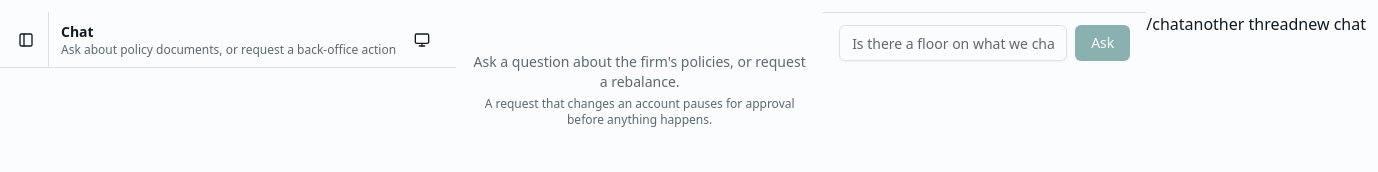
Test case: ChatPage › shows an error event rather than an empty answer
The width and height of the screenshot is (1378, 172).
In the field named "Message": [953, 43] box left=839, top=25, right=1067, bottom=61, type "anything"
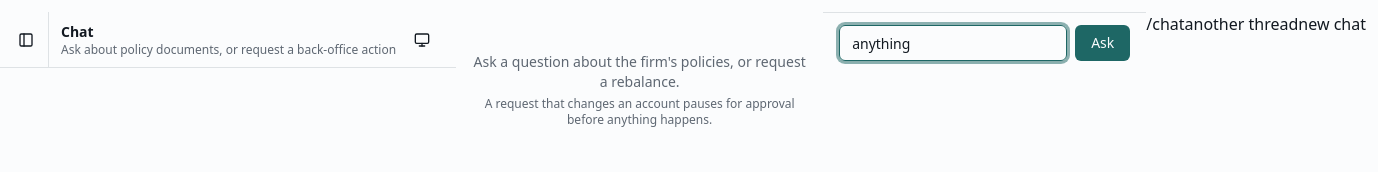
Click the button "Ask": [1103, 43] box left=1075, top=25, right=1130, bottom=61
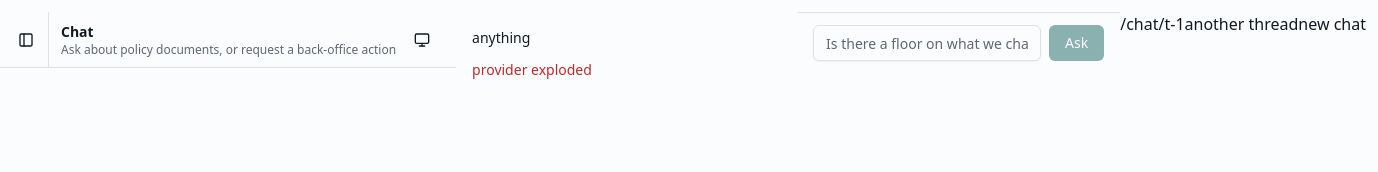
Expected: the text with test id "error" reads "provider exploded", left=472, top=60, right=592, bottom=79
